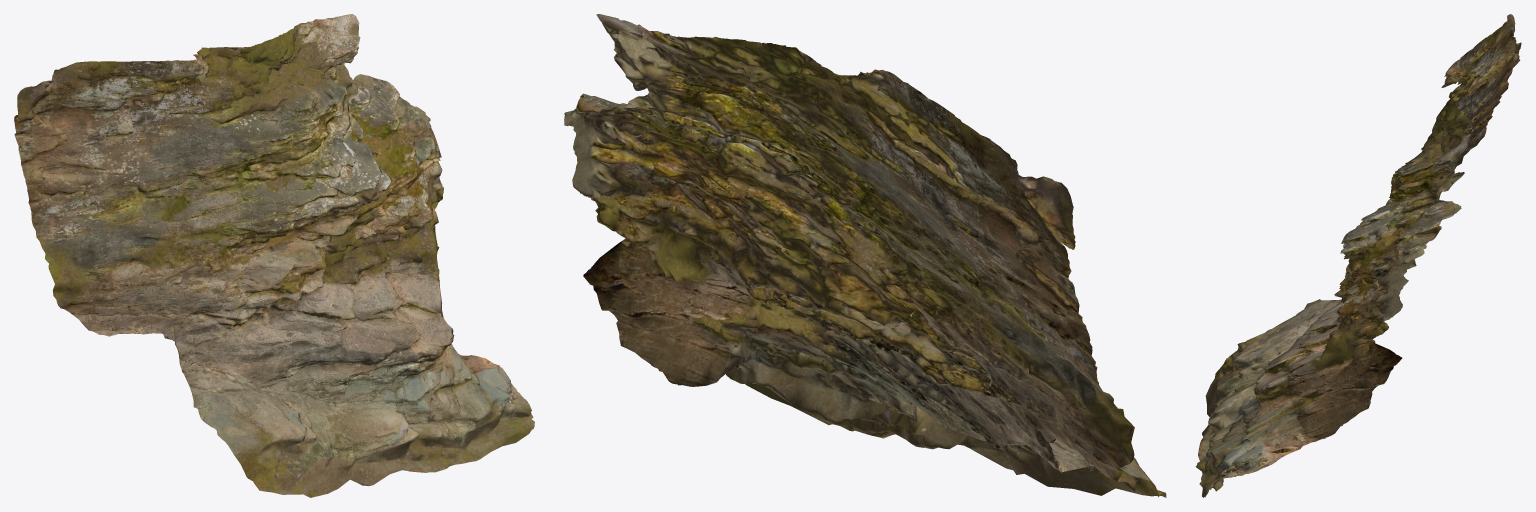
File: rock-face-02.glb
3 renders of one model, left to right at view 1: azimuth 30°, elevation 25°; view 2: azimuth 150°, elevation 25°; view 3: azimuth 270°, elevation 25°, orthographic. The views are drawn at different scales.
Visible parts, largest first — view 1: rock_face_02; view 2: rock_face_02; view 3: rock_face_02.
Boxes of the visible parts, bbox=[...] form: rock_face_02: bbox=[14, 14, 534, 497]; rock_face_02: bbox=[564, 14, 1166, 497]; rock_face_02: bbox=[1195, 14, 1521, 497].
Size of the model in its own units: 2.71 by 2.47 by 2.13.
Materials: 1 (1 with a texture image).
